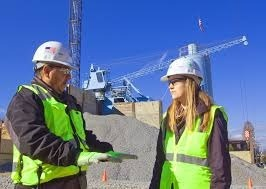helmet: (30, 40, 76, 72), (159, 59, 204, 82)
person with full safety: (9, 40, 93, 189), (157, 58, 221, 189)
safety vest: (16, 86, 86, 182), (162, 105, 217, 186)
